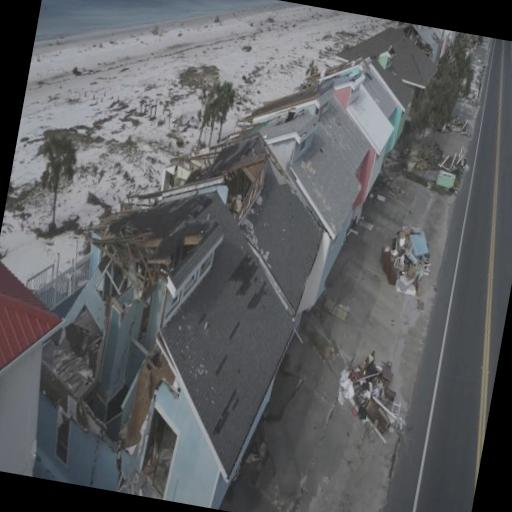flood: (34, 0, 284, 39)
house: (117, 224, 309, 512), (0, 228, 74, 476), (225, 164, 342, 314), (248, 104, 380, 236), (340, 22, 442, 118), (322, 54, 416, 154), (403, 24, 462, 66)
